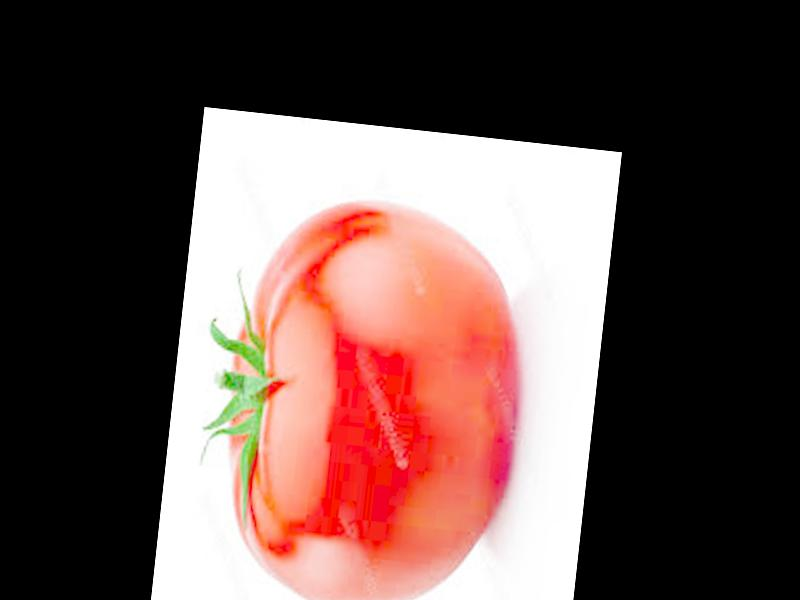Tomato: (208, 188, 529, 600)
